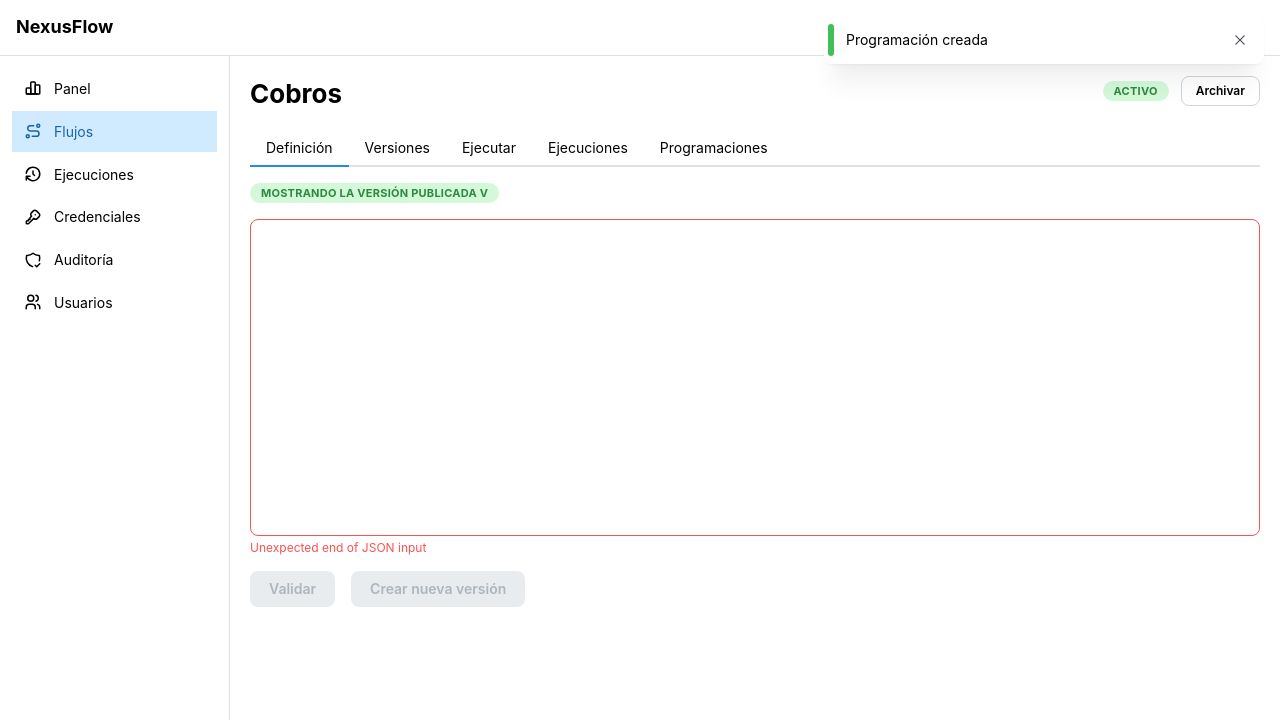
it: programaciones › muestra el error del servidor si la expresión no es válida
Click the tab "Programaciones": click(714, 149) [644,131,784,167]
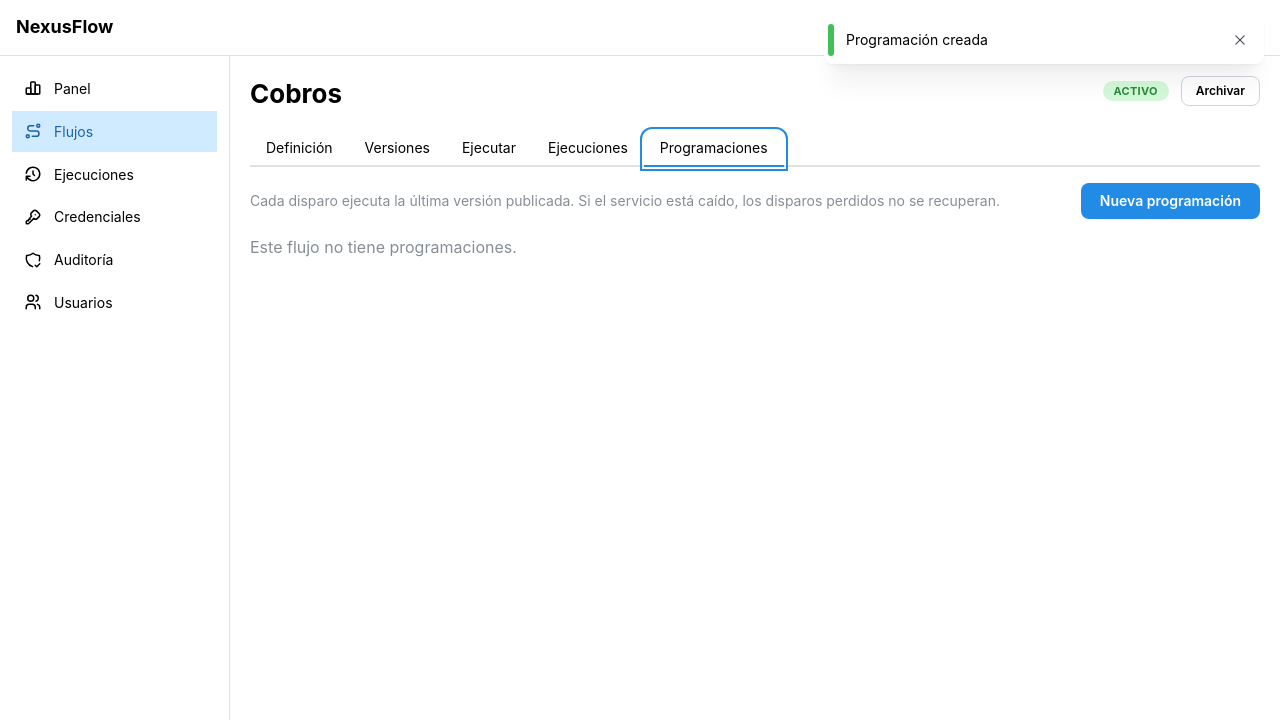
Click the button "Nueva programación": click(1170, 201) [1081,183,1260,219]
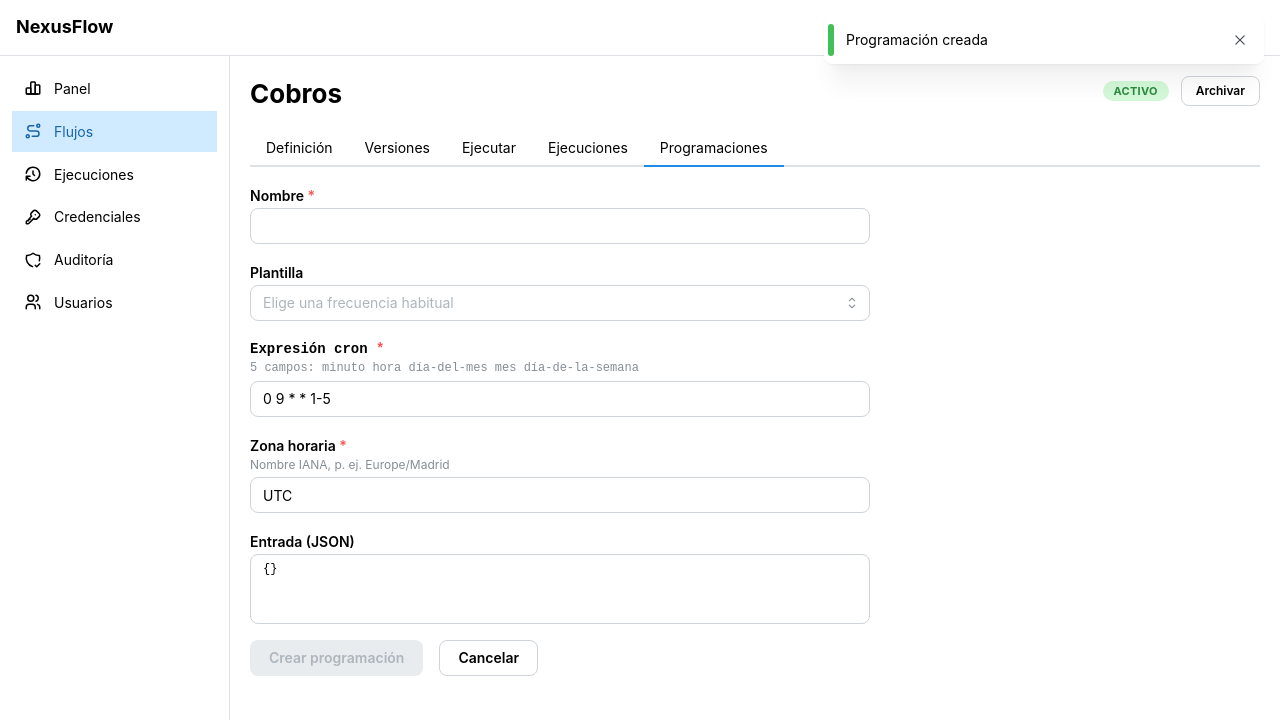
In the field labelled "Nombre *": (560, 226) [250,208,870,244], type "x"
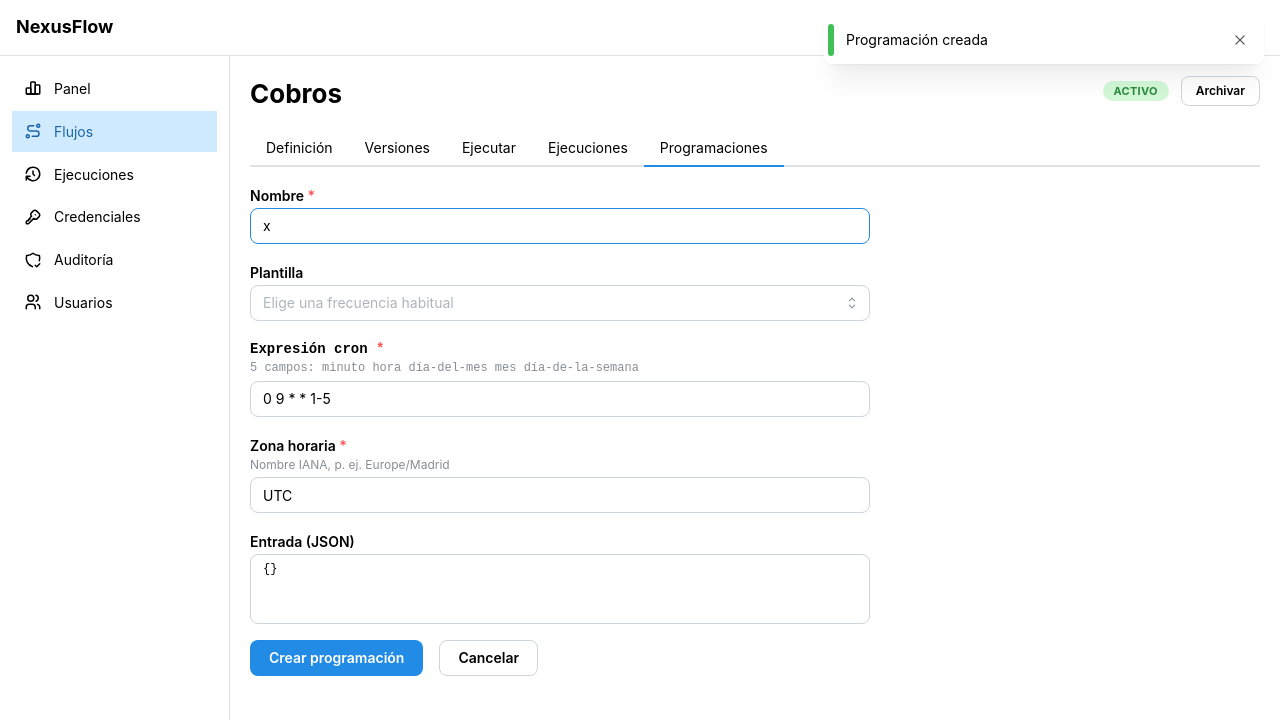
Click the button "Crear programación": click(337, 658) [250,640,423,676]
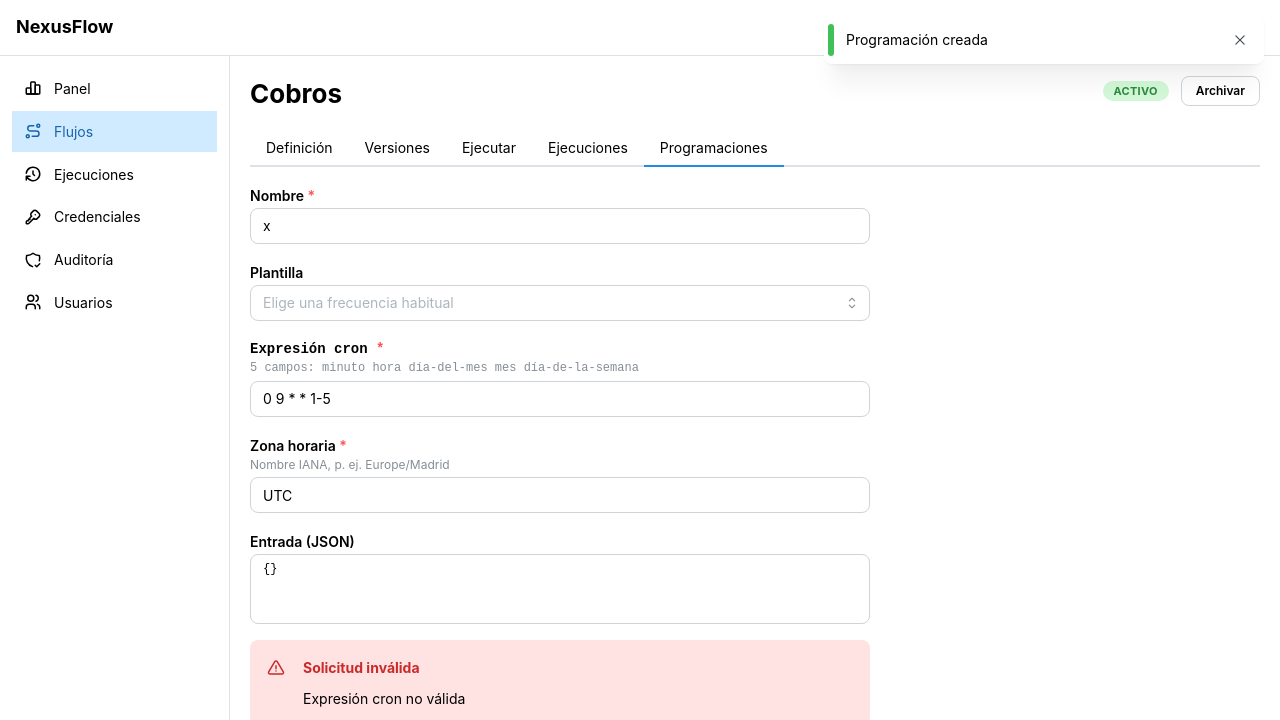
Expected: the text "Expresión cron no válida" is shown, [303,690,465,706]
